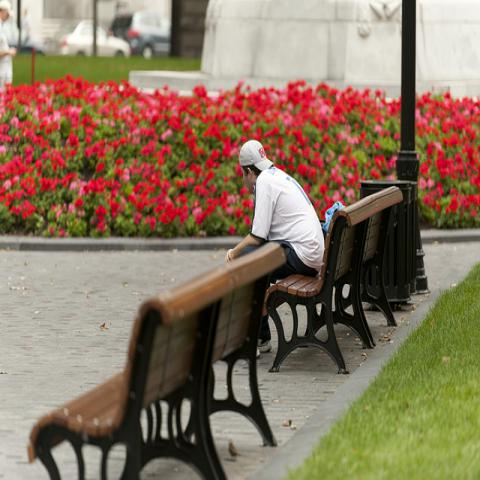car: (58, 21, 132, 59), (125, 6, 174, 59), (7, 37, 46, 56)
